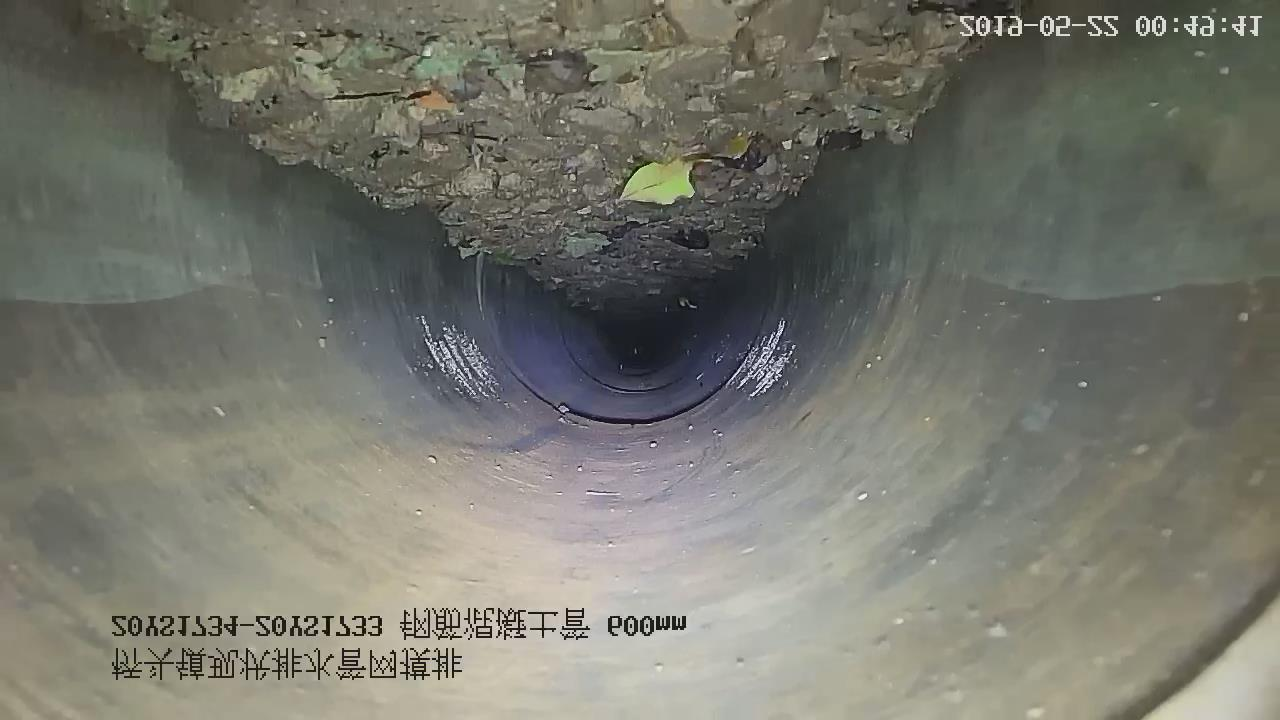CJ: (88, 1, 978, 319)
CKTJ: (469, 253, 766, 430)
